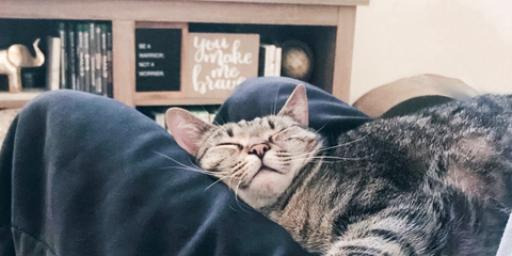cat_sleeping: (166, 84, 511, 255)
